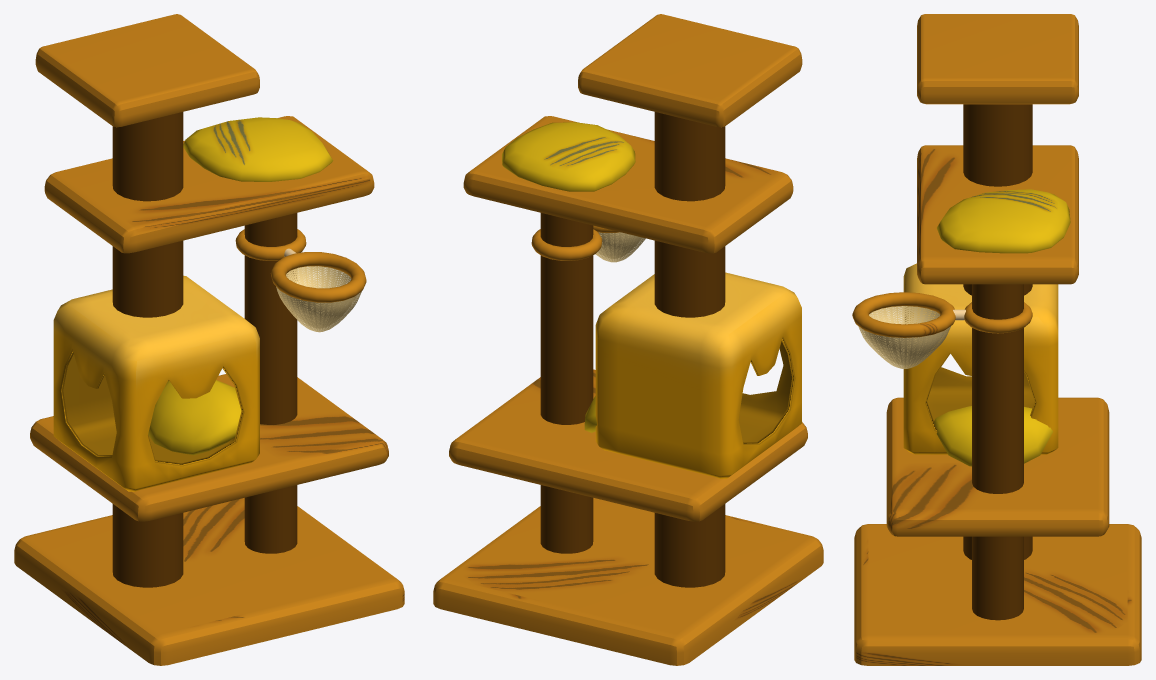
The model's file is scratched_up_cat_tower.glb.
3 views of the same model, side by side, from view 1: azimuth 30°, elevation 25°; view 2: azimuth 150°, elevation 25°; view 3: azimuth 270°, elevation 25° (orthographic). The views are drawn at different scales.
Visible parts, largest first — view 1: platform1, CAT_BOX, platfrom3, platform4, platform2, pole_R, pole_L, costion, costion1, cloth, cloth_ring1, cloth_ring; view 2: platform1, CAT_BOX, platform2, platfrom3, platform4, pole_R, pole_L, costion, cloth_ring, cloth; view 3: platform1, platform2, platform4, pole_L, platfrom3, CAT_BOX, costion, pole_R, cloth, cloth_ring1, costion1, cloth_ring.
Part boxes in pixels (left/top/right/bottom): platform1: left=14, top=498, right=404, bottom=665; CAT_BOX: left=53, top=275, right=259, bottom=491; platfrom3: left=44, top=116, right=374, bottom=253; platform4: left=35, top=14, right=259, bottom=127; platform2: left=30, top=374, right=388, bottom=521; pole_R: left=112, top=112, right=183, bottom=587; pole_L: left=244, top=213, right=297, bottom=553; costion: left=183, top=117, right=333, bottom=181; costion1: left=148, top=380, right=241, bottom=455; cloth: left=276, top=266, right=361, bottom=332; cloth_ring1: left=270, top=252, right=366, bottom=302; cloth_ring: left=235, top=229, right=306, bottom=260; platform1: left=433, top=498, right=823, bottom=665; CAT_BOX: left=595, top=272, right=801, bottom=478; platform2: left=449, top=369, right=807, bottom=521; platfrom3: left=463, top=116, right=793, bottom=253; platform4: left=578, top=14, right=802, bottom=127; pole_R: left=654, top=112, right=725, bottom=587; pole_L: left=540, top=213, right=593, bottom=553; costion: left=502, top=122, right=635, bottom=191; cloth_ring: left=531, top=229, right=602, bottom=260; cloth: left=595, top=232, right=645, bottom=262; platform1: left=854, top=524, right=1141, bottom=665; platform2: left=886, top=397, right=1109, bottom=536; platform4: left=917, top=14, right=1078, bottom=104; pole_L: left=972, top=284, right=1023, bottom=620; platfrom3: left=917, top=145, right=1078, bottom=284; CAT_BOX: left=903, top=263, right=1058, bottom=454; costion: left=937, top=189, right=1070, bottom=253; pole_R: left=963, top=104, right=1032, bottom=559; cloth: left=858, top=306, right=950, bottom=368; cloth_ring1: left=852, top=292, right=955, bottom=337; costion1: left=934, top=406, right=1053, bottom=466; cloth_ring: left=964, top=302, right=1032, bottom=333.
Bounding box in the file's own units: 0.0853 × 0.168 × 0.0831.
6 materials, 4 textured.
